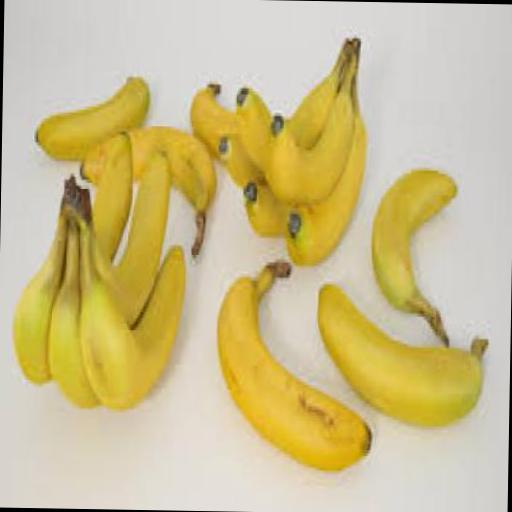biodegradable: (210, 255, 374, 481), (45, 146, 169, 410), (6, 176, 143, 385), (312, 278, 492, 431), (74, 180, 191, 410), (257, 40, 388, 197), (70, 128, 220, 252), (226, 39, 360, 172), (368, 164, 458, 344), (108, 122, 218, 258), (32, 69, 150, 160), (276, 198, 374, 276), (186, 78, 235, 164), (236, 180, 290, 242), (217, 134, 267, 176)
